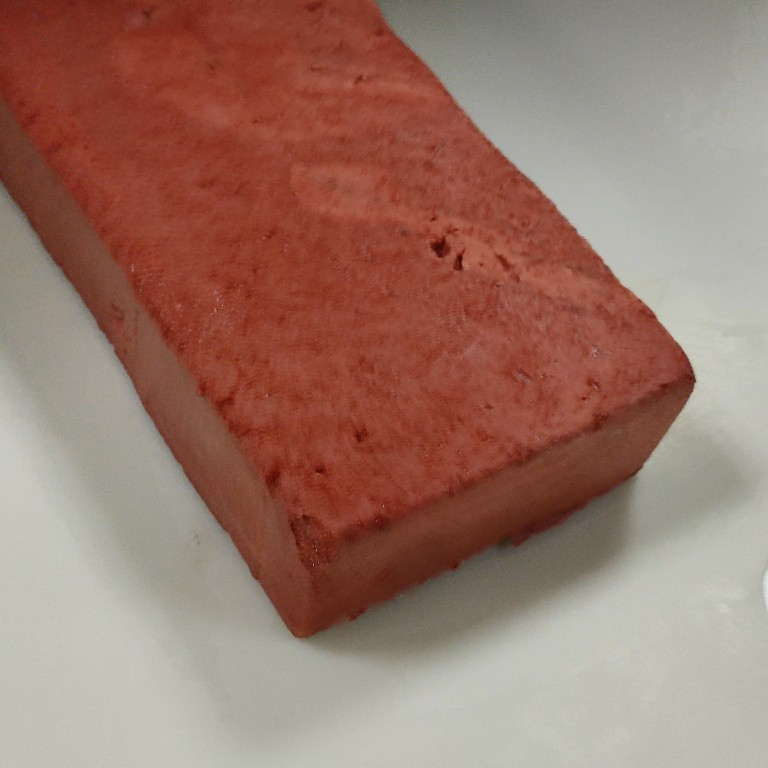brick: (1, 1, 700, 641)
